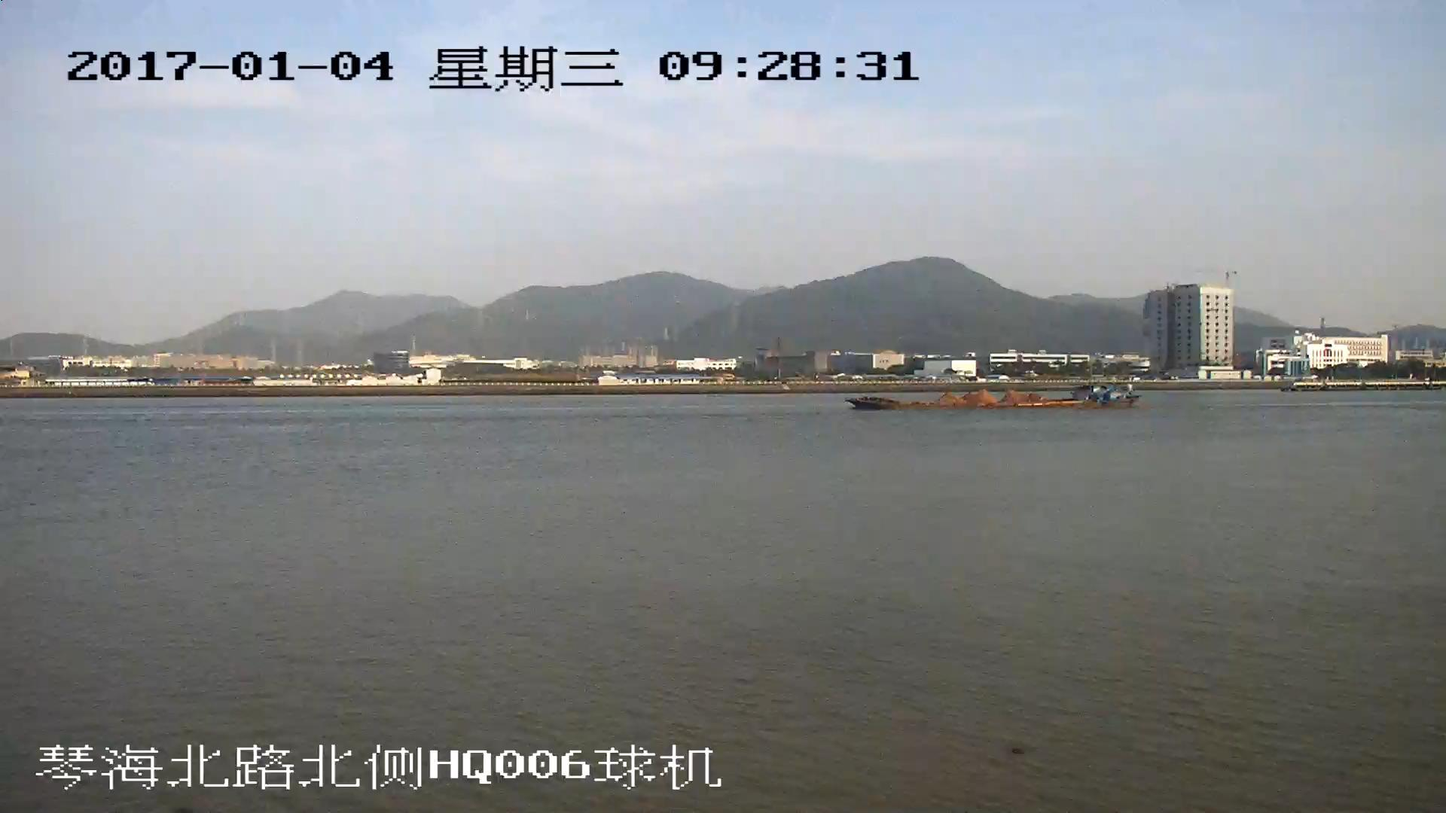ore carrier: (847, 386, 1131, 412)
